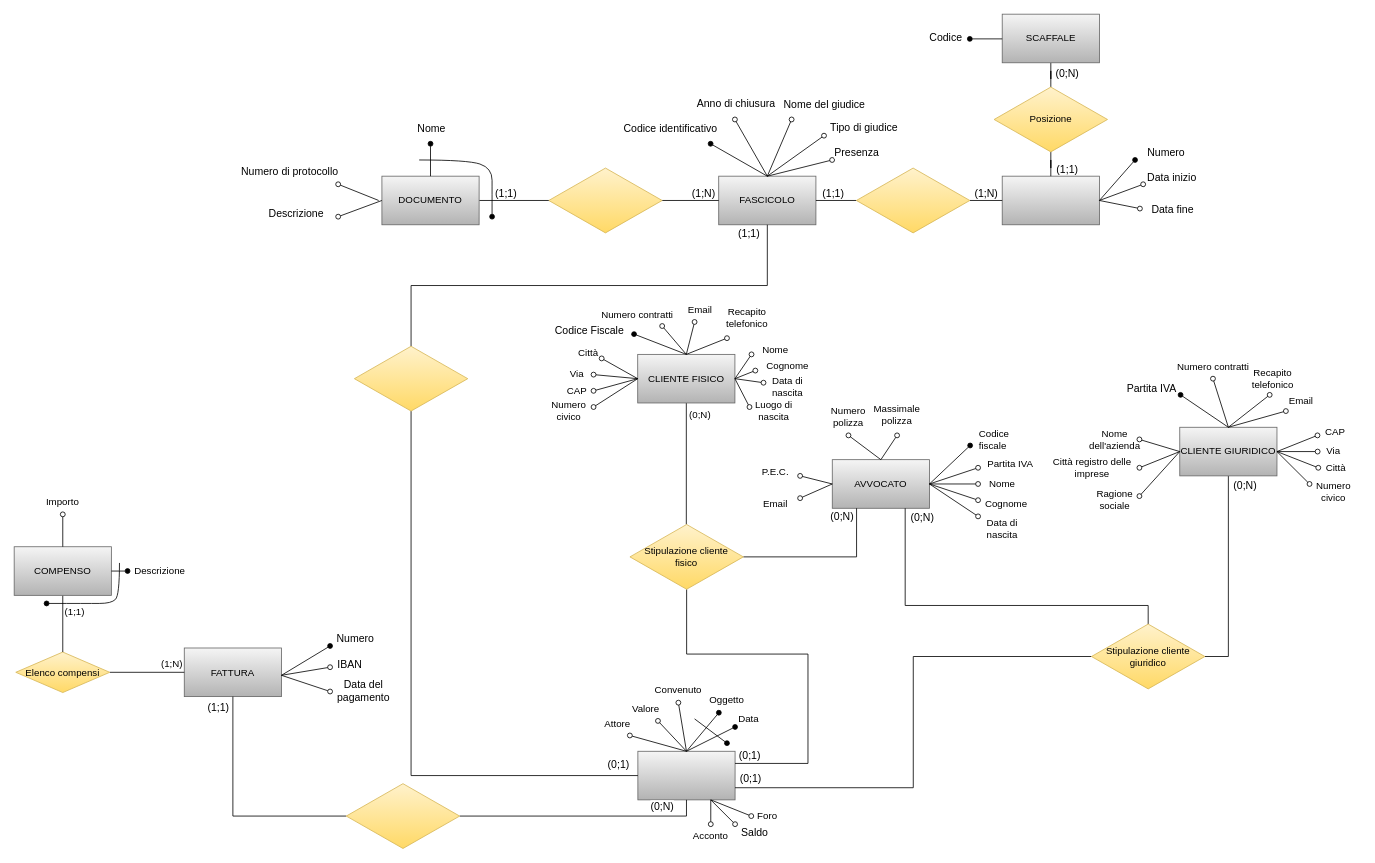
This 1375x863 diagram has some shape labels left out. The shapes that lost their labels are listed below. From the top down, each one's centre as x and y in pixels, then its label:
At point 605,200: "Contenuto".
At point 913,200: "Inserimento".
At point 1050,200: "FALDONE".
At point 411,378: "Referenza".
At point 686,775: "CONTRATTO".
At point 402,815: "Pagamento".
